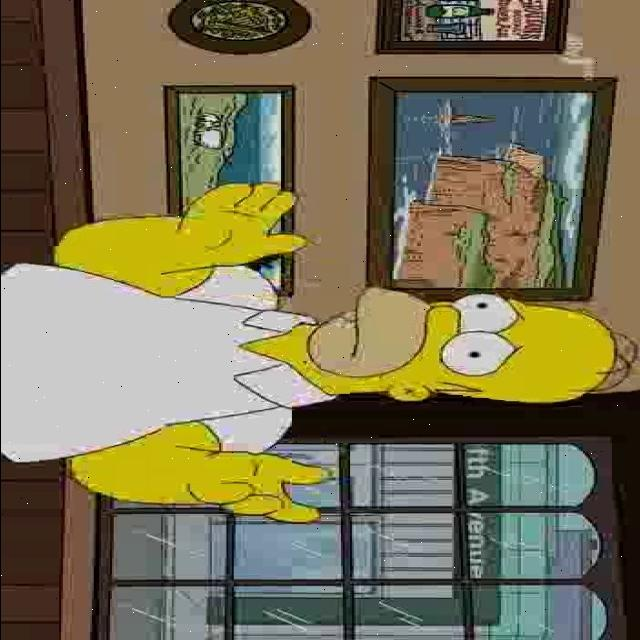Homer Simpson: (282, 285, 634, 406)
